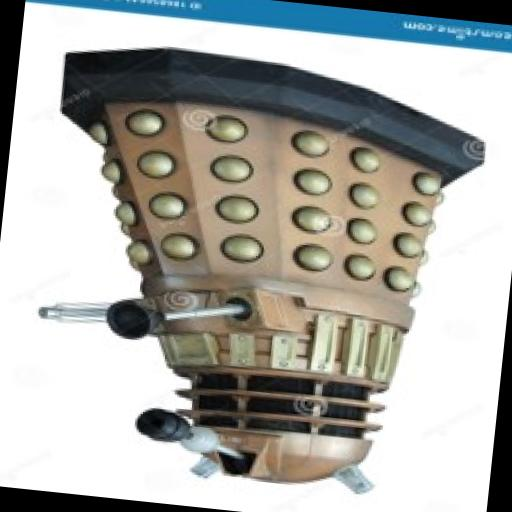dalek: (22, 37, 499, 512)
